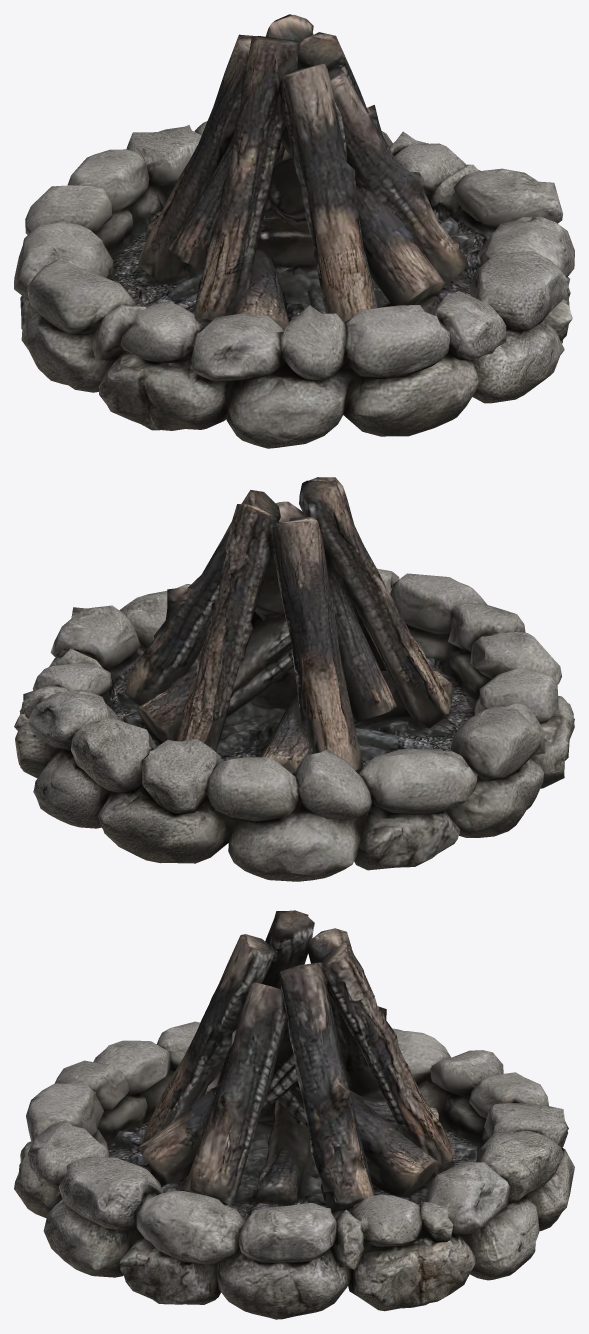
The model's file is fogata.glb.
3 renders of one model, top to bottom at view 1: azimuth 30°, elevation 25°; view 2: azimuth 150°, elevation 25°; view 3: azimuth 270°, elevation 25°, orthographic. The views are drawn at different scales.
Visible parts, largest first — view 1: tripo_node_e4c8e717-3859-4610-a8a7-41d60d60764f; view 2: tripo_node_e4c8e717-3859-4610-a8a7-41d60d60764f; view 3: tripo_node_e4c8e717-3859-4610-a8a7-41d60d60764f.
Boxes of the visible parts, x1,y1,x2,y2 form: tripo_node_e4c8e717-3859-4610-a8a7-41d60d60764f: (14,14,574,448); tripo_node_e4c8e717-3859-4610-a8a7-41d60d60764f: (14,477,574,881); tripo_node_e4c8e717-3859-4610-a8a7-41d60d60764f: (14,910,574,1319).
Bounding box in the file's own units: 0.9612 × 0.5777 × 1.
1 material, 1 textured.
